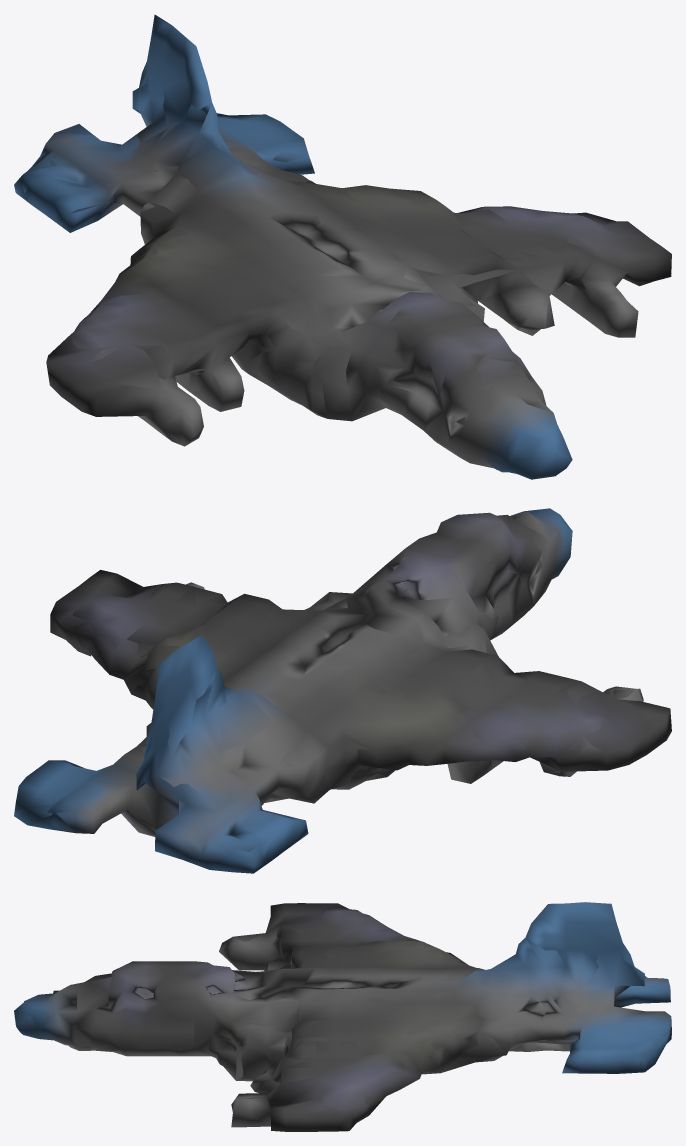
File: black_eagle.glb
3 renders of one model, top to bottom at view 1: azimuth 30°, elevation 25°; view 2: azimuth 150°, elevation 25°; view 3: azimuth 270°, elevation 25°, orthographic. The views are drawn at different scales.
Visible parts, largest first — view 1: black_eagle; view 2: black_eagle; view 3: black_eagle.
Boxes of the visible parts, left/top/right/bottom form: black_eagle: left=14, top=14, right=671, bottom=479; black_eagle: left=14, top=508, right=671, bottom=873; black_eagle: left=14, top=902, right=671, bottom=1131.
Size of the model in its own units: 3.87 by 1.31 by 5.1.
